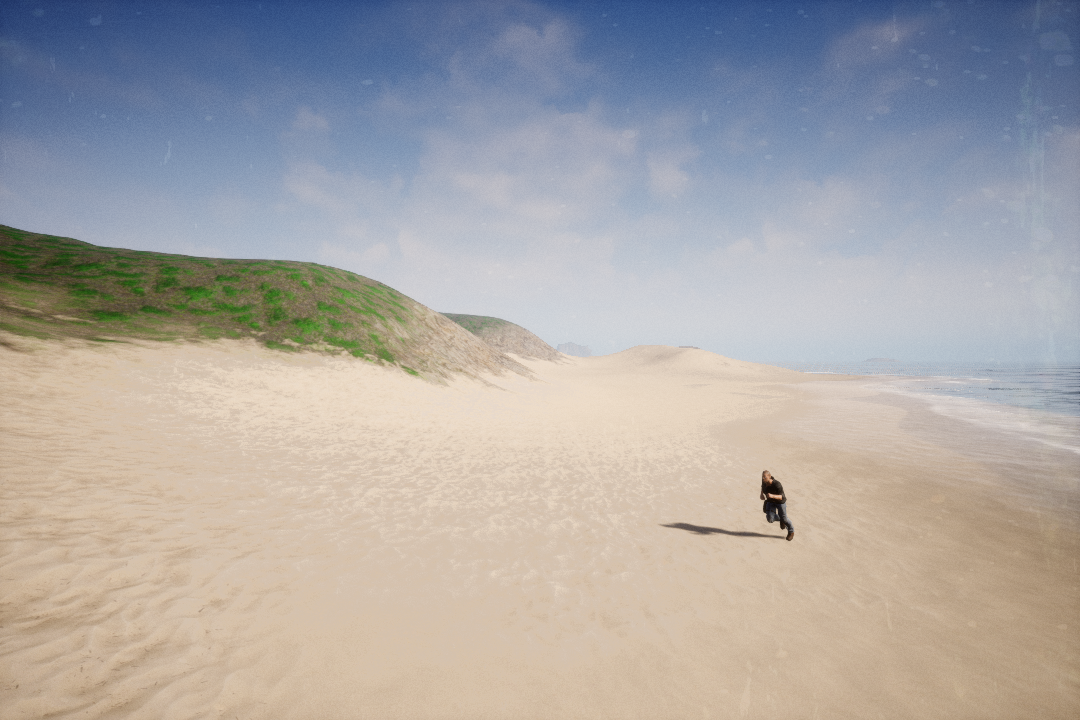person: (755, 463, 800, 544)
